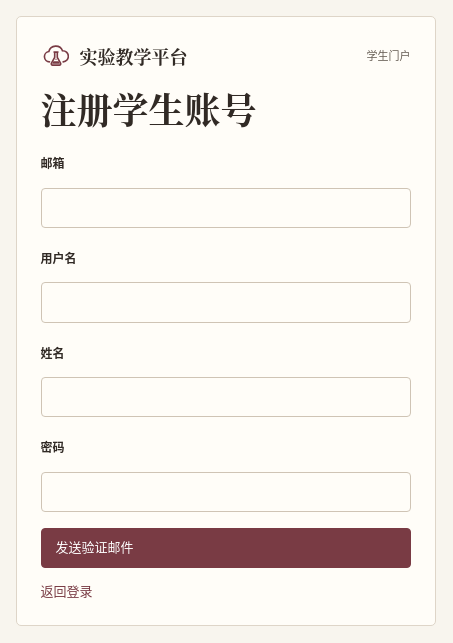
it: submits student registration and shows the email step
The image size is (453, 643).
Step 1. Type "student@example.edu" into the field labelled "邮箱" → point(226, 208), box [40,188,410,228]
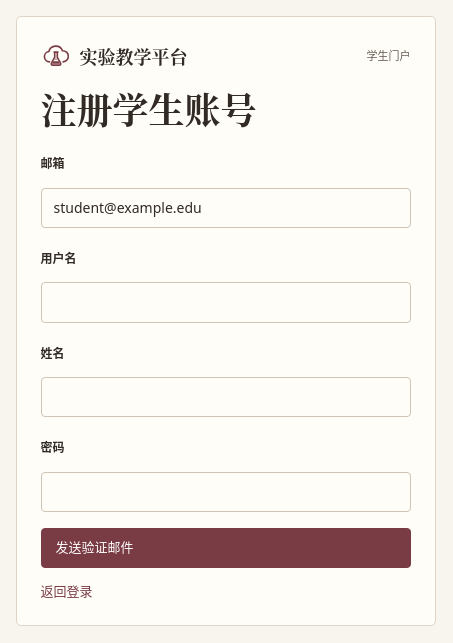
Step 2. Type "student" into the field labelled "用户名" → point(226, 302), box [40,282,410,322]
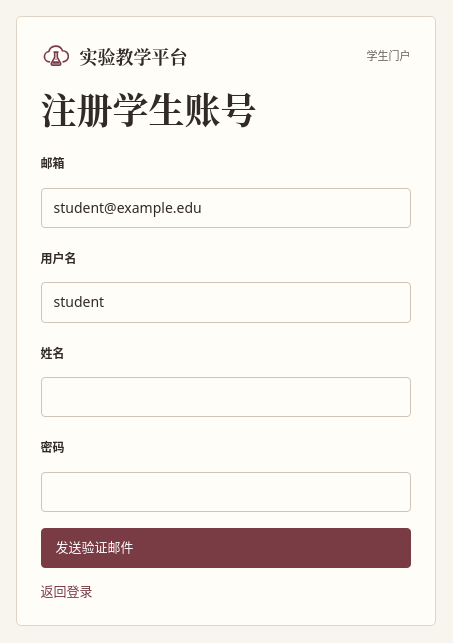
Step 3. Type "Student" into the field labelled "姓名" → point(226, 397), box [40,377,410,417]
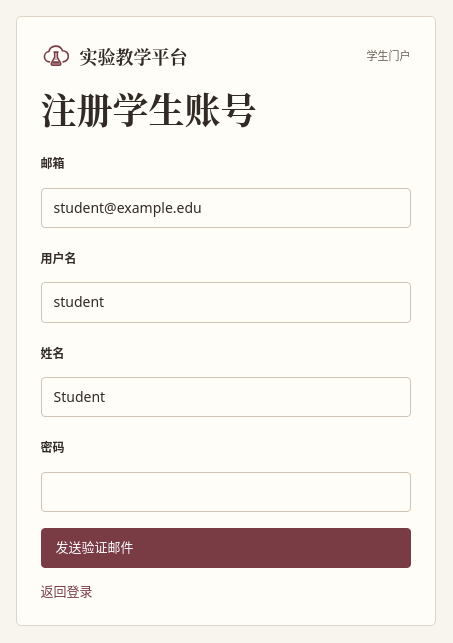
Step 4. Type "ValidPassword!234" into the password field labelled "密码" → point(226, 492), box [40,472,410,512]
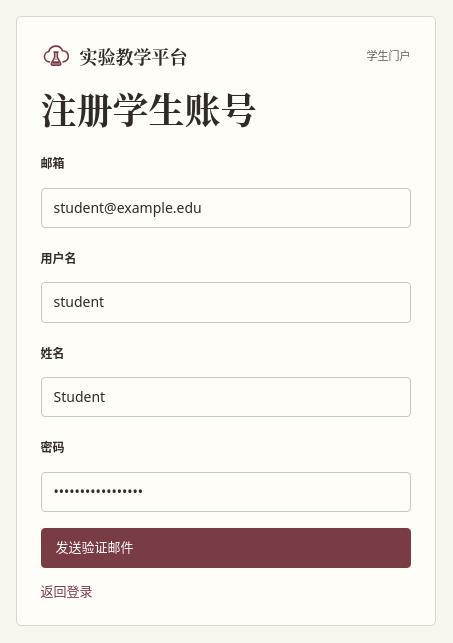
Step 5. Click the button "发送验证邮件" → point(95, 547), box [40,528,410,568]
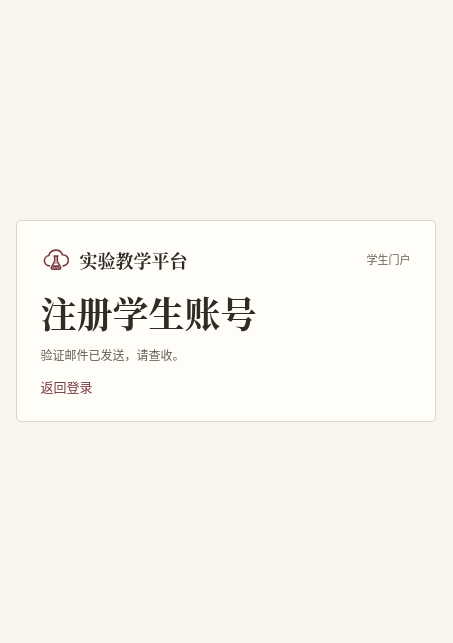
Expected: the text "验证邮件已发送，请查收。" is shown, [40,347,184,364]
